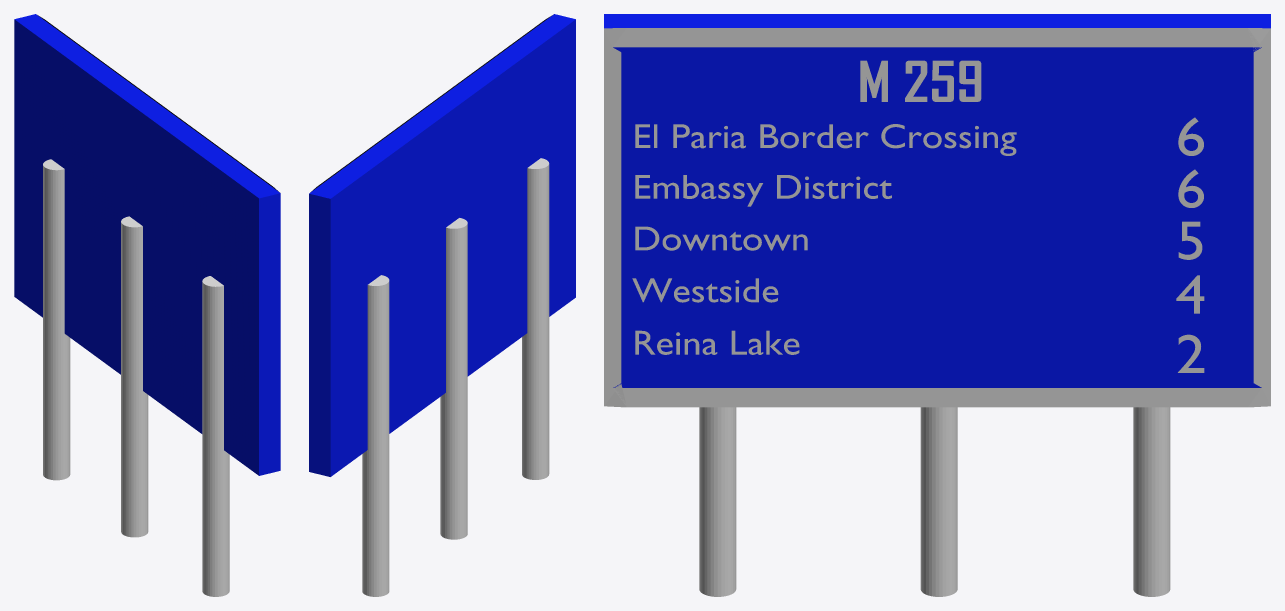
Rendered from UK_distance_sign_4.fbx.
3 renders of one model, left to right at view 1: azimuth 30°, elevation 25°; view 2: azimuth 150°, elevation 25°; view 3: azimuth 270°, elevation 25°, orthographic. The views are drawn at different scales.
Visible parts, largest first — view 1: Cube.001, Cylinder, Cylinder.001, Cylinder.002; view 2: Cube.001, Cylinder.001, Cylinder, Cylinder.002; view 3: Cube.001, Cylinder, Cylinder.001, Cylinder.002, Text.008, Text, Text.004, Text.011, Text.009, Text.005.
Boxes of the visible parts, x1,y1,x2,y2 form: Cube.001: (14, 14, 280, 475); Cylinder: (202, 276, 229, 596); Cylinder.001: (43, 159, 70, 480); Cylinder.002: (121, 216, 148, 537); Cube.001: (309, 14, 575, 476); Cylinder.001: (362, 275, 389, 596); Cylinder: (522, 158, 549, 479); Cylinder.002: (440, 218, 467, 539); Cube.001: (604, 14, 1270, 407); Cylinder: (699, 407, 736, 596); Cylinder.001: (1133, 407, 1170, 596); Cylinder.002: (920, 407, 957, 596); Text.008: (635, 124, 1016, 155); Text: (860, 60, 981, 101); Text.004: (635, 175, 891, 206); Text.011: (635, 226, 807, 250); Text.009: (635, 330, 799, 354); Text.005: (632, 278, 778, 302).
Bounding box in the file's own units: 6.34 × 68.74 × 72.02.
